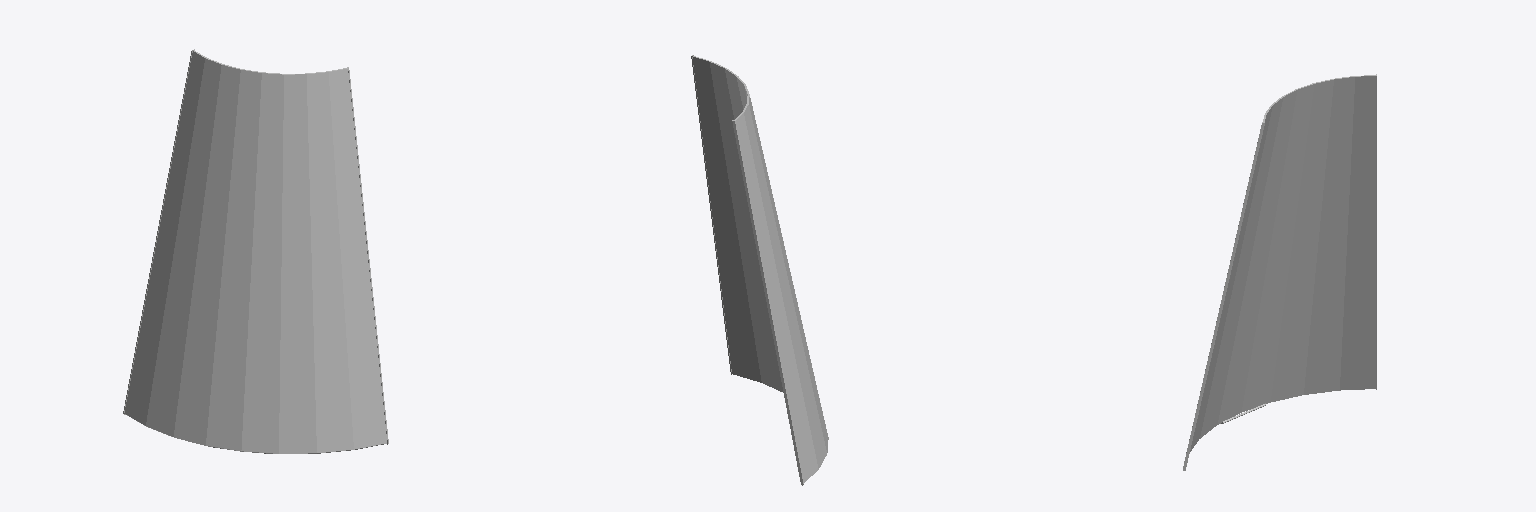
Rendered from Saturn V_4_2.obj.
3 views of the same model, side by side, from view 1: azimuth 30°, elevation 25°; view 2: azimuth 150°, elevation 25°; view 3: azimuth 270°, elevation 25° (orthographic).
Parts seen in each view (by area): view 1: LEM_Fairing.000_Cylinder.018; view 2: LEM_Fairing.000_Cylinder.018; view 3: LEM_Fairing.000_Cylinder.018.
Part boxes in pixels (bbox=[...]): LEM_Fairing.000_Cylinder.018: bbox=[123, 49, 388, 453]; LEM_Fairing.000_Cylinder.018: bbox=[691, 55, 828, 485]; LEM_Fairing.000_Cylinder.018: bbox=[1183, 74, 1376, 470].
Size of the model in its own units: 3.31 by 6.54 by 3.31.